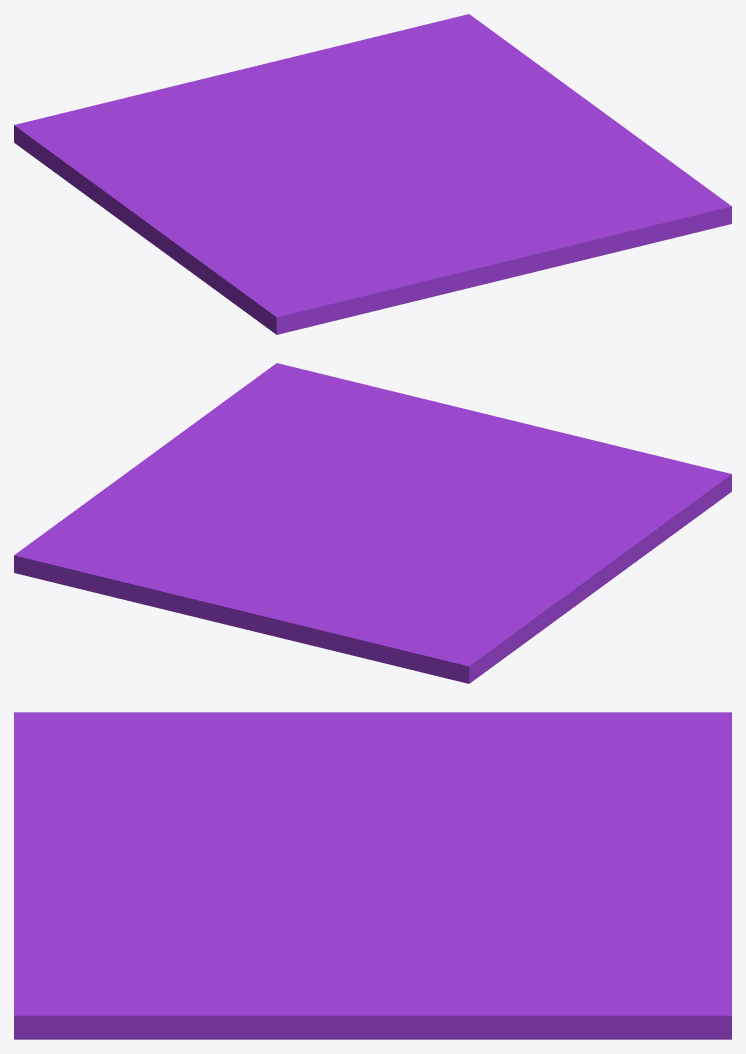
Rendered from Platform_21_chunks.fbx.
3 renders of one model, top to bottom at view 1: azimuth 30°, elevation 25°; view 2: azimuth 150°, elevation 25°; view 3: azimuth 270°, elevation 25°, orthographic. The views are drawn at different scales.
Visible parts, largest first — view 1: Platform_21_7, Platform_21_9, Platform_21_3, Platform_21_2, Platform_21_6, Platform_21_10, Platform_21_8, Platform_21_4, Platform_21_1, Platform_21_12, Platform_21_14, Platform_21_13 (+3 smaller); view 2: Platform_21_7, Platform_21_9, Platform_21_3, Platform_21_6, Platform_21_2, Platform_21_10, Platform_21_8, Platform_21_4, Platform_21_1, Platform_21_12, Platform_21_14, Platform_21_13 (+3 smaller); view 3: Platform_21_7, Platform_21_9, Platform_21_3, Platform_21_6, Platform_21_2, Platform_21_10, Platform_21_14, Platform_21_8, Platform_21_4, Platform_21_13, Platform_21_1, Platform_21_12 (+4 smaller).
Part boxes in pixels (bbox=[...]): Platform_21_7: bbox=[14, 87, 319, 202]; Platform_21_9: bbox=[415, 154, 731, 271]; Platform_21_3: bbox=[167, 218, 436, 334]; Platform_21_2: bbox=[337, 181, 535, 297]; Platform_21_6: bbox=[220, 14, 487, 97]; Platform_21_10: bbox=[373, 57, 507, 190]; Platform_21_8: bbox=[305, 60, 460, 171]; Platform_21_4: bbox=[168, 167, 397, 219]; Platform_21_1: bbox=[96, 183, 291, 262]; Platform_21_12: bbox=[487, 102, 642, 168]; Platform_21_14: bbox=[538, 80, 687, 174]; Platform_21_13: bbox=[464, 27, 549, 103]; Platform_21_7: bbox=[284, 531, 554, 683]; Platform_21_9: bbox=[233, 363, 476, 486]; Platform_21_3: bbox=[501, 435, 731, 563]; Platform_21_6: bbox=[14, 535, 284, 638]; Platform_21_2: bbox=[393, 412, 570, 500]; Platform_21_10: bbox=[105, 476, 402, 535]; Platform_21_8: bbox=[112, 514, 410, 568]; Platform_21_4: bbox=[376, 497, 521, 580]; Platform_21_1: bbox=[511, 518, 633, 623]; Platform_21_12: bbox=[170, 414, 271, 503]; Platform_21_14: bbox=[104, 395, 243, 489]; Platform_21_13: bbox=[33, 495, 187, 541]; Platform_21_7: bbox=[393, 712, 731, 868]; Platform_21_9: bbox=[14, 868, 295, 1039]; Platform_21_3: bbox=[14, 712, 314, 818]; Platform_21_6: bbox=[601, 849, 731, 1031]; Platform_21_2: bbox=[14, 809, 310, 882]; Platform_21_10: bbox=[275, 863, 615, 983]; Platform_21_14: bbox=[133, 986, 501, 1039]; Platform_21_8: bbox=[368, 833, 609, 979]; Platform_21_4: bbox=[248, 749, 464, 865]; Platform_21_13: bbox=[456, 963, 682, 1039]; Platform_21_1: bbox=[281, 712, 496, 787]; Platform_21_12: bbox=[180, 946, 468, 997].
Size of the model in its own units: 810 by 29.87 by 810.
